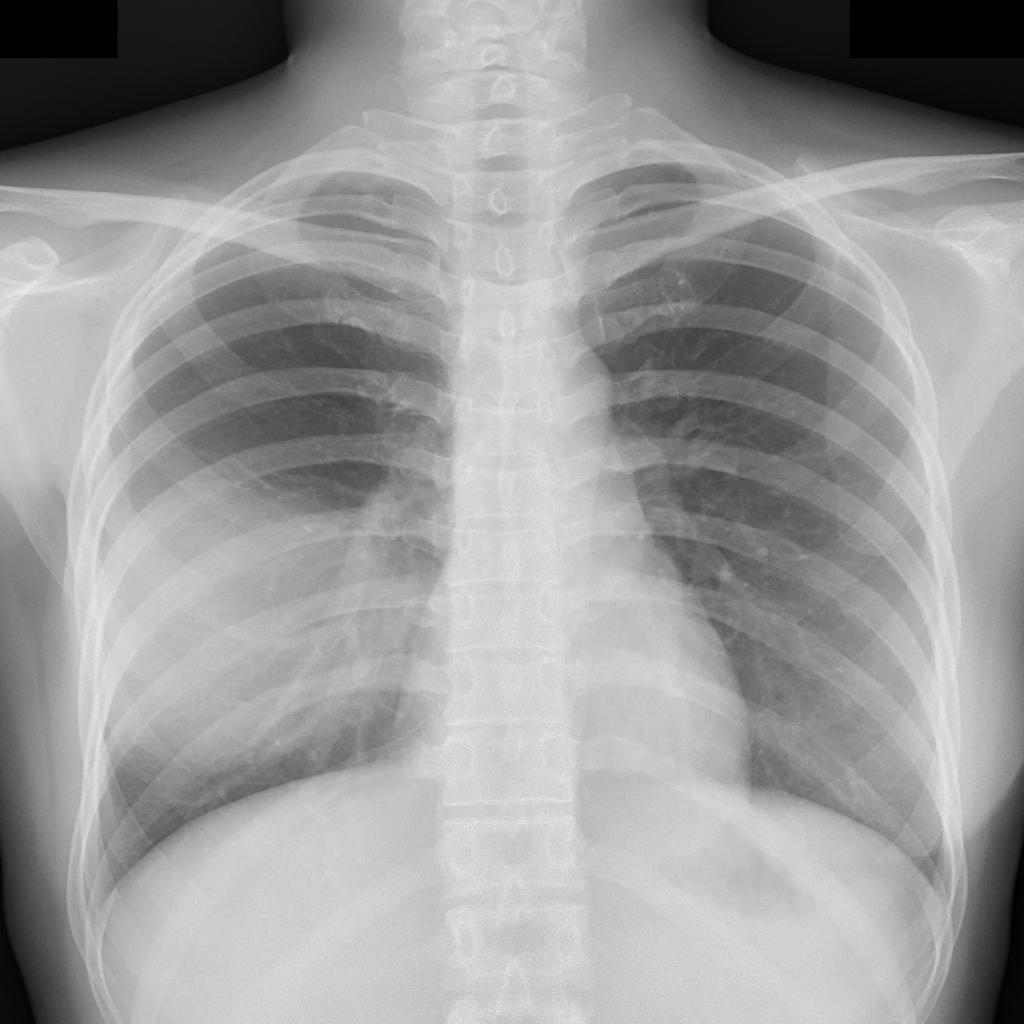Nodule: (88, 481, 417, 764)
